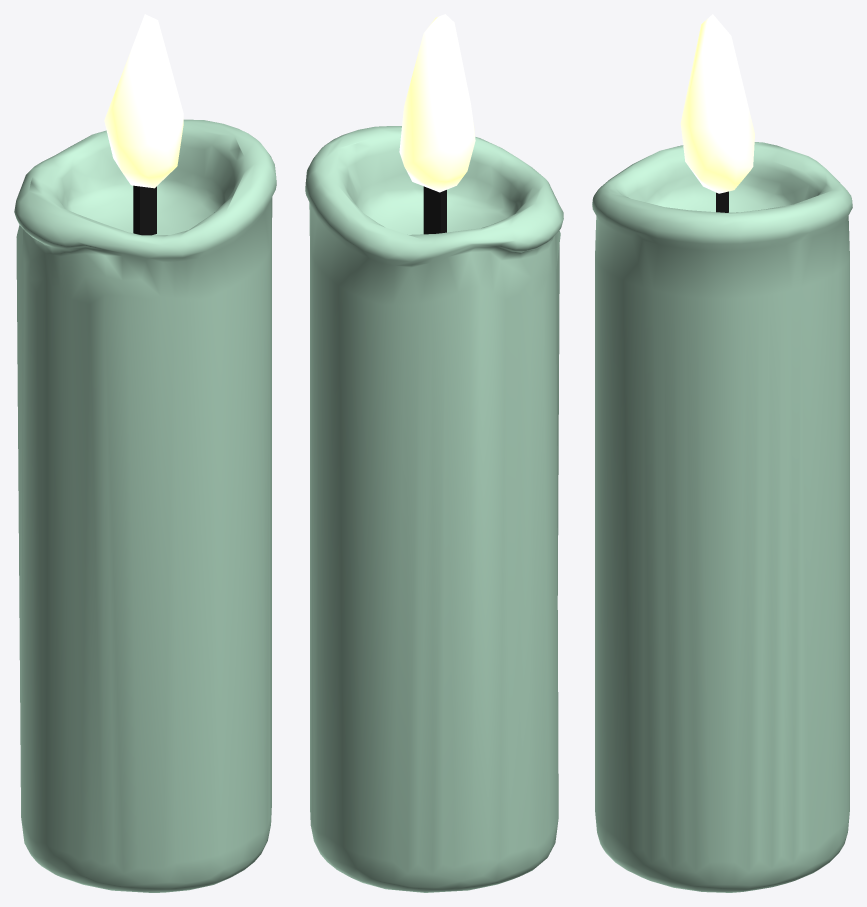
3 renders of one model, left to right at view 1: azimuth 30°, elevation 25°; view 2: azimuth 150°, elevation 25°; view 3: azimuth 270°, elevation 25°, orthographic.
Visible parts, largest first — view 1: Cube.002, Cube.001, Plane.007; view 2: Cube.002, Cube.001, Plane.007; view 3: Cube.002, Cube.001.
Part boxes in pixels (x1,y1,x2,y2): Cube.002: [14, 119, 276, 892]; Cube.001: [104, 14, 183, 188]; Plane.007: [133, 185, 156, 235]; Cube.002: [305, 126, 563, 892]; Cube.001: [399, 14, 475, 192]; Plane.007: [423, 186, 446, 234]; Cube.002: [592, 142, 852, 892]; Cube.001: [680, 14, 754, 193].
Bounding box in the file's own units: 0.0649 × 0.2225 × 0.0632.
